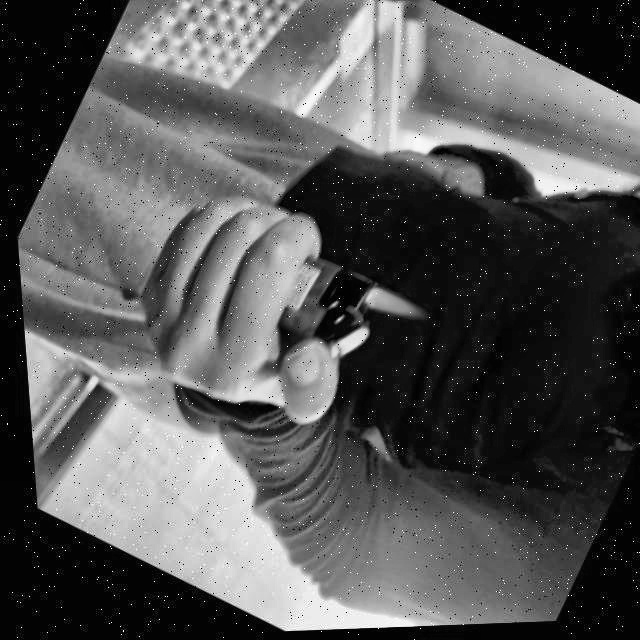Fire: (358, 282, 419, 332)
